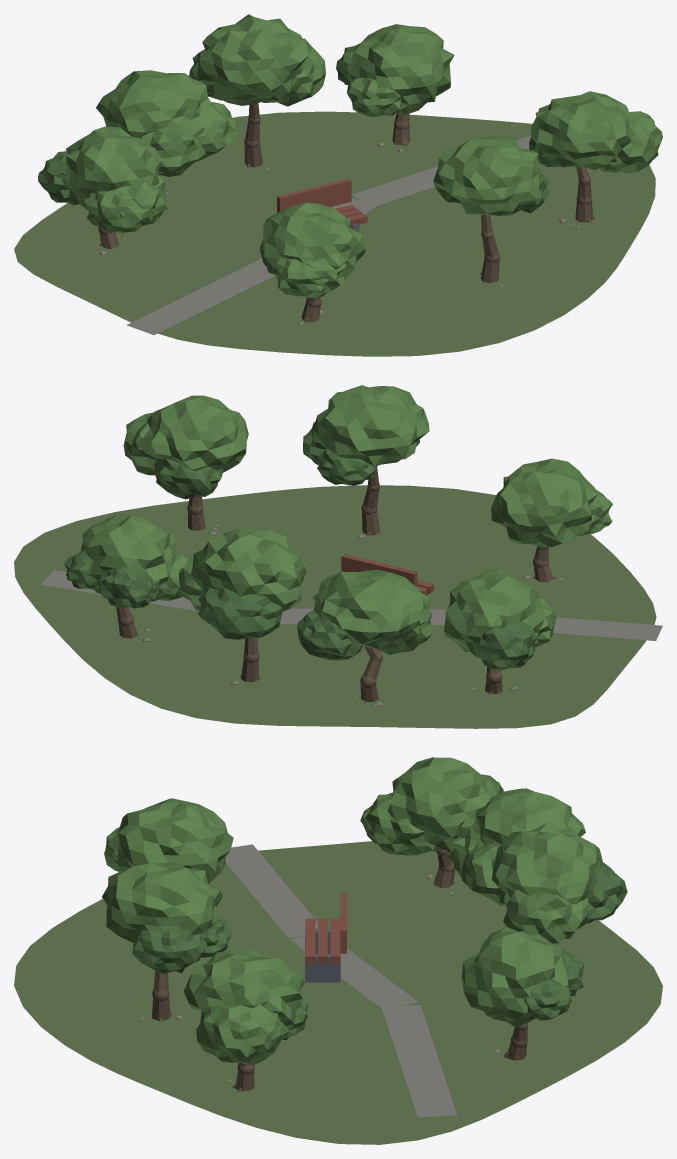
File: civic_grove_lvl1.glb
3 renders of one model, top to bottom at view 1: azimuth 30°, elevation 25°; view 2: azimuth 150°, elevation 25°; view 3: azimuth 270°, elevation 25°, orthographic. The views are drawn at different scales.
Visible parts, largest first — view 1: civic_grove; view 2: civic_grove; view 3: civic_grove.
Boxes of the visible parts, bbox=[...] form: civic_grove: bbox=[14, 14, 662, 356]; civic_grove: bbox=[14, 385, 662, 728]; civic_grove: bbox=[14, 757, 662, 1144].
Size of the model in its own units: 1 by 0.2395 by 0.8932.
